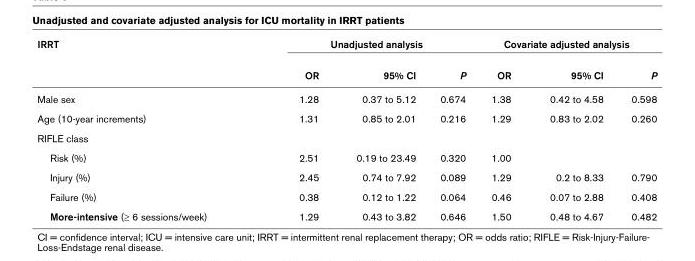table: (36, 37, 656, 221)
table column: (36, 37, 252, 221), (336, 37, 427, 221), (529, 37, 616, 221), (252, 37, 336, 221), (477, 37, 529, 221), (427, 37, 477, 221), (616, 37, 656, 221)
table column header: (36, 37, 656, 86)
table projected row header: (36, 127, 656, 147)
table row: (36, 58, 656, 86), (36, 86, 656, 108), (36, 37, 656, 58), (36, 127, 656, 147), (36, 147, 656, 167), (36, 108, 656, 127), (36, 167, 656, 186), (36, 186, 656, 205), (36, 205, 656, 221)
table spanning cell: (36, 37, 252, 86), (252, 37, 477, 58), (477, 37, 656, 58)
